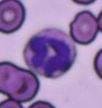N: (23, 28, 76, 77)
